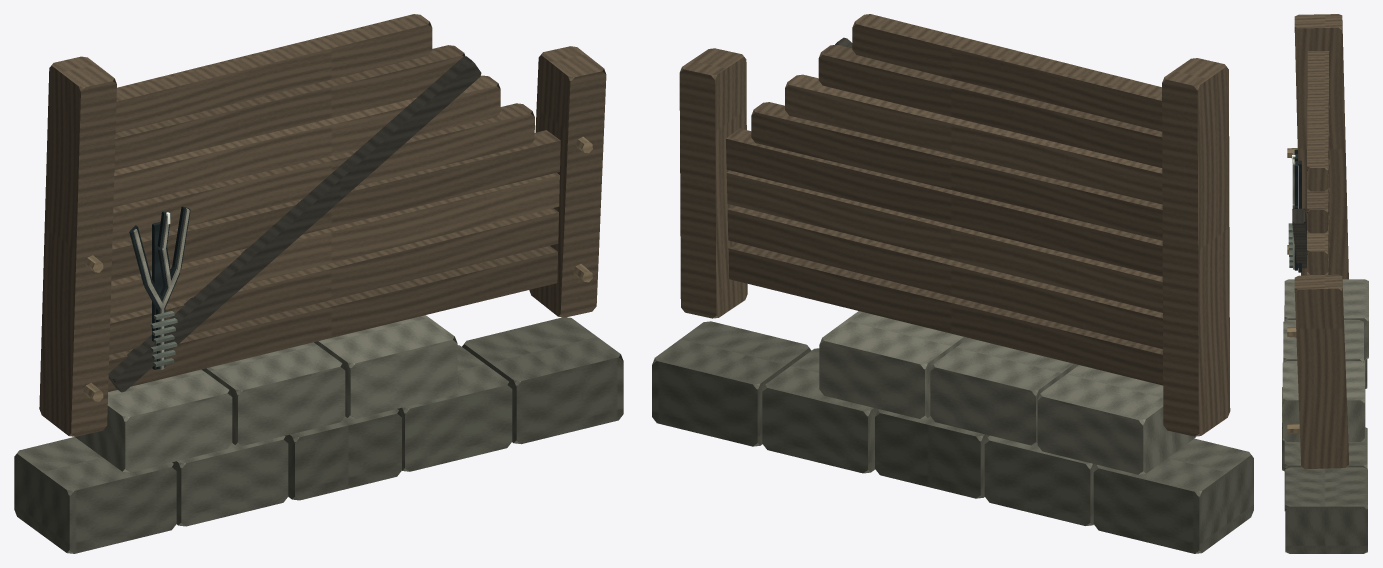
The model's file is cataclysm_rootvault_wall.glb.
3 views of the same model, side by side, from view 1: azimuth 30°, elevation 25°; view 2: azimuth 150°, elevation 25°; view 3: azimuth 270°, elevation 25° (orthographic). The views are drawn at different scales.
Parts seen in each view (by area): view 1: cataclysm_rootvault_wall; view 2: cataclysm_rootvault_wall; view 3: cataclysm_rootvault_wall.
Part boxes in pixels (x1=…): cataclysm_rootvault_wall: x1=14, y1=14, x2=623, y2=553; cataclysm_rootvault_wall: x1=652, y1=14, x2=1253, y2=553; cataclysm_rootvault_wall: x1=1282, y1=14, x2=1368, y2=553.
Bounding box in the file's own units: 2.92 × 2.31 × 0.529.
Materials: 4 (4 with a texture image).
